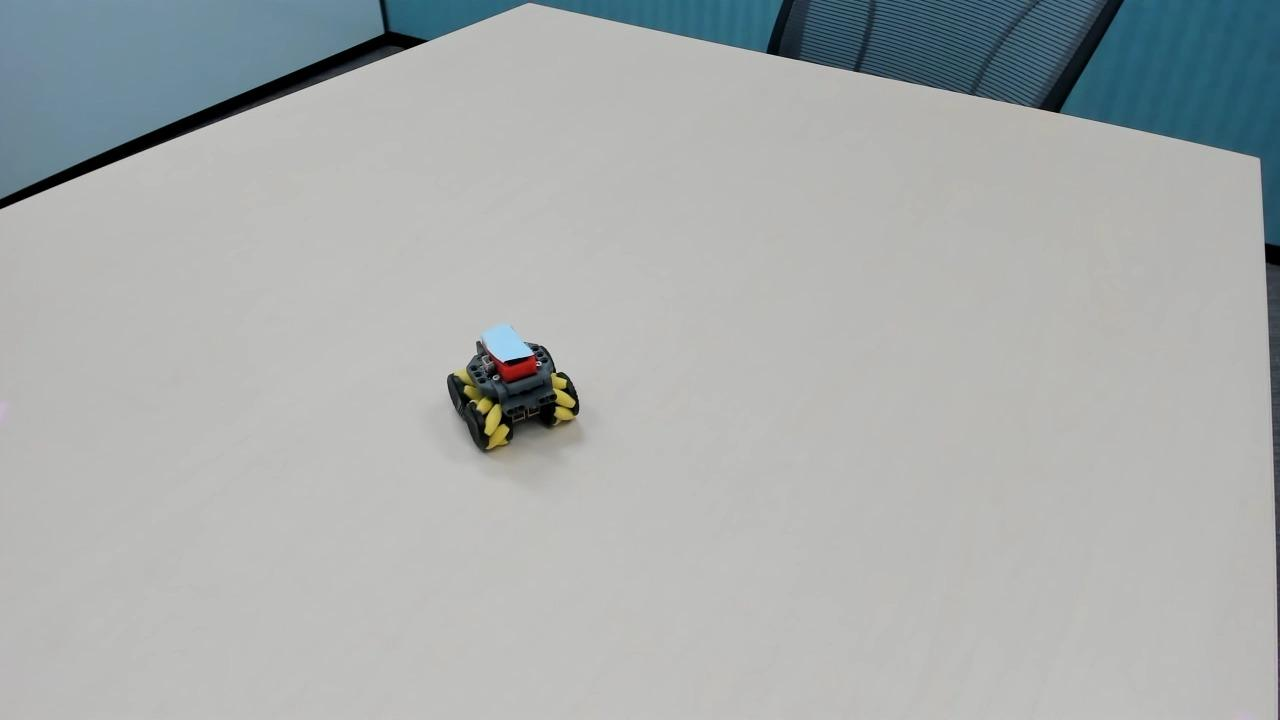B-Robot: (429, 316, 599, 468)
